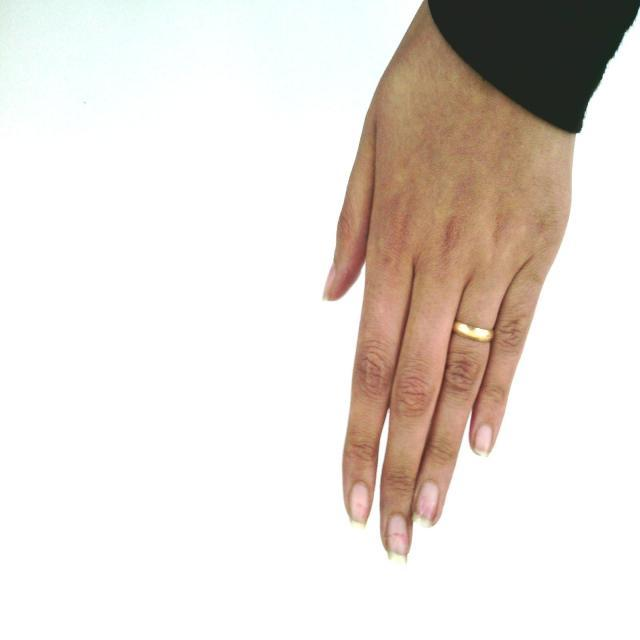Fingernail: (387, 515, 408, 562), (417, 481, 438, 524), (350, 483, 369, 526), (474, 424, 492, 456), (324, 268, 335, 300)
